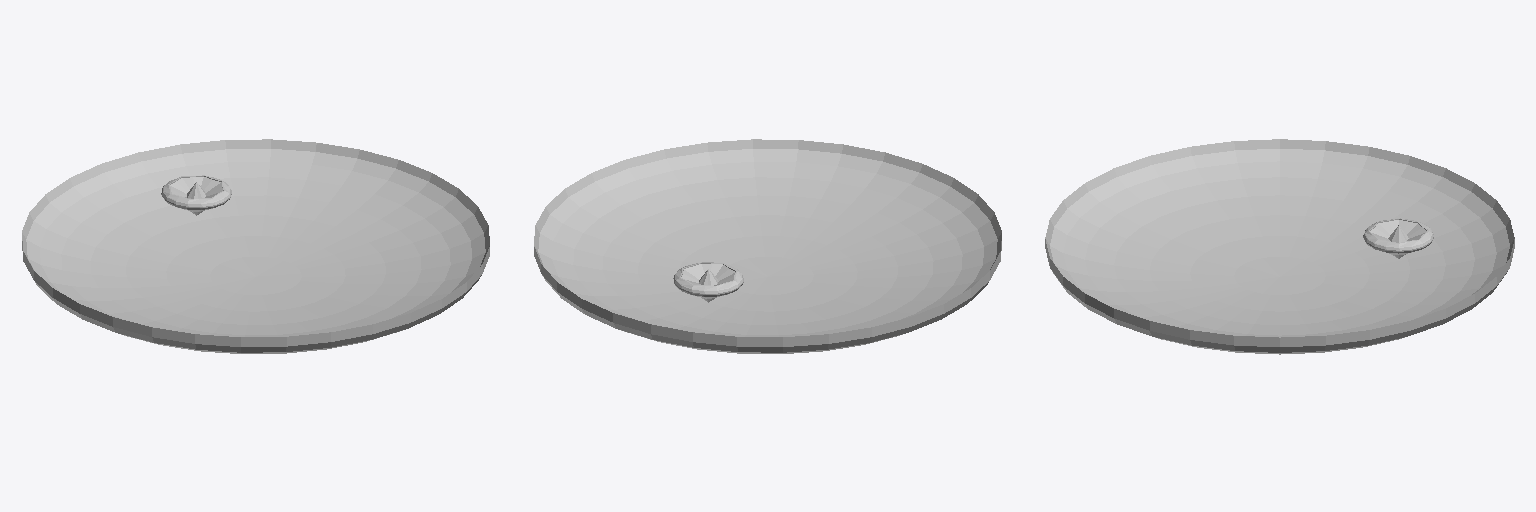
Rendered from misticka.obj.
The picture shows the model from 3 angles: view 1: azimuth 30°, elevation 25°; view 2: azimuth 150°, elevation 25°; view 3: azimuth 270°, elevation 25°; orthographic projection.
Parts seen in each view (by area): view 1: Sphere, Circle; view 2: Sphere, Circle; view 3: Sphere, Circle.
Part boxes in pixels (x1,y1,x2,y2): Sphere: (22, 139, 489, 353); Circle: (161, 175, 231, 215); Sphere: (534, 139, 1001, 353); Circle: (673, 262, 743, 302); Sphere: (1045, 139, 1514, 354); Circle: (1363, 218, 1433, 258).
Size of the model in its own units: 13.17 by 1.89 by 13.17.